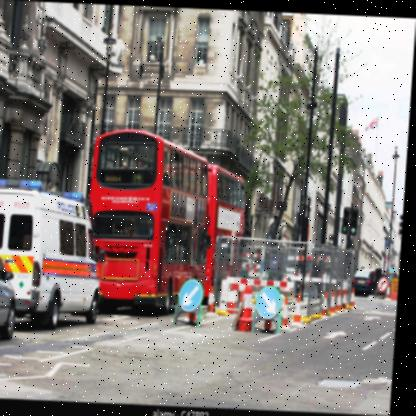Keep left: (180, 272, 210, 315)
Keep right: (257, 280, 290, 324)
